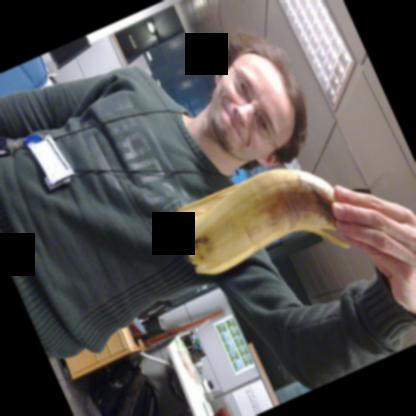backpack: (88, 356, 134, 416), (112, 367, 159, 416)
